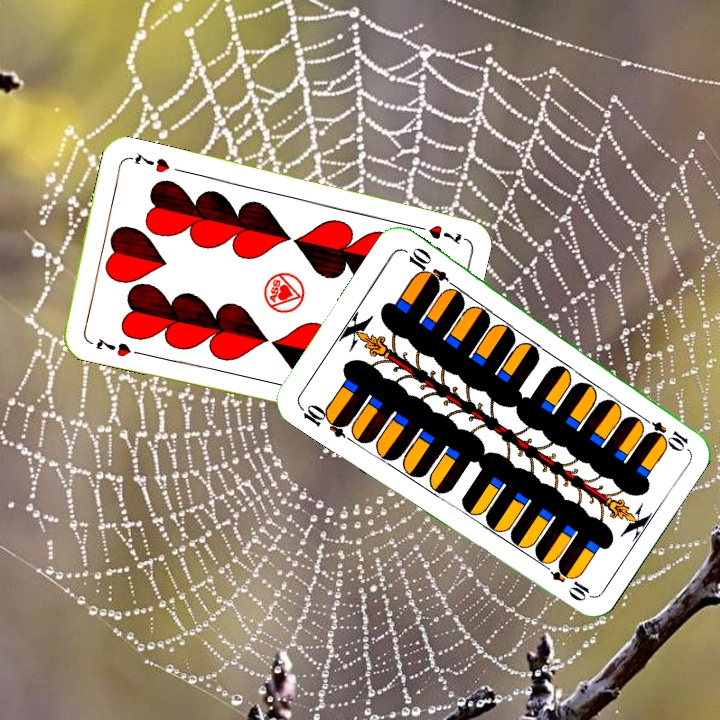E10: (296, 400, 352, 440), (637, 411, 691, 451)
H7: (408, 220, 464, 247), (92, 334, 134, 360)
